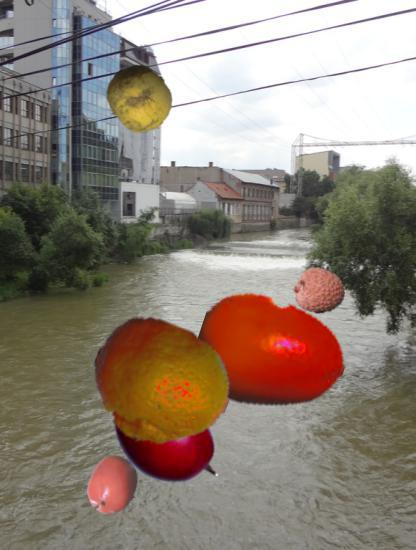Apple: (105, 65, 173, 133)
Kaki: (196, 281, 345, 430), (83, 455, 144, 516)
Lychee: (291, 263, 347, 319)
Mandarine: (90, 315, 231, 456)
Tamarillo: (110, 382, 229, 501)
